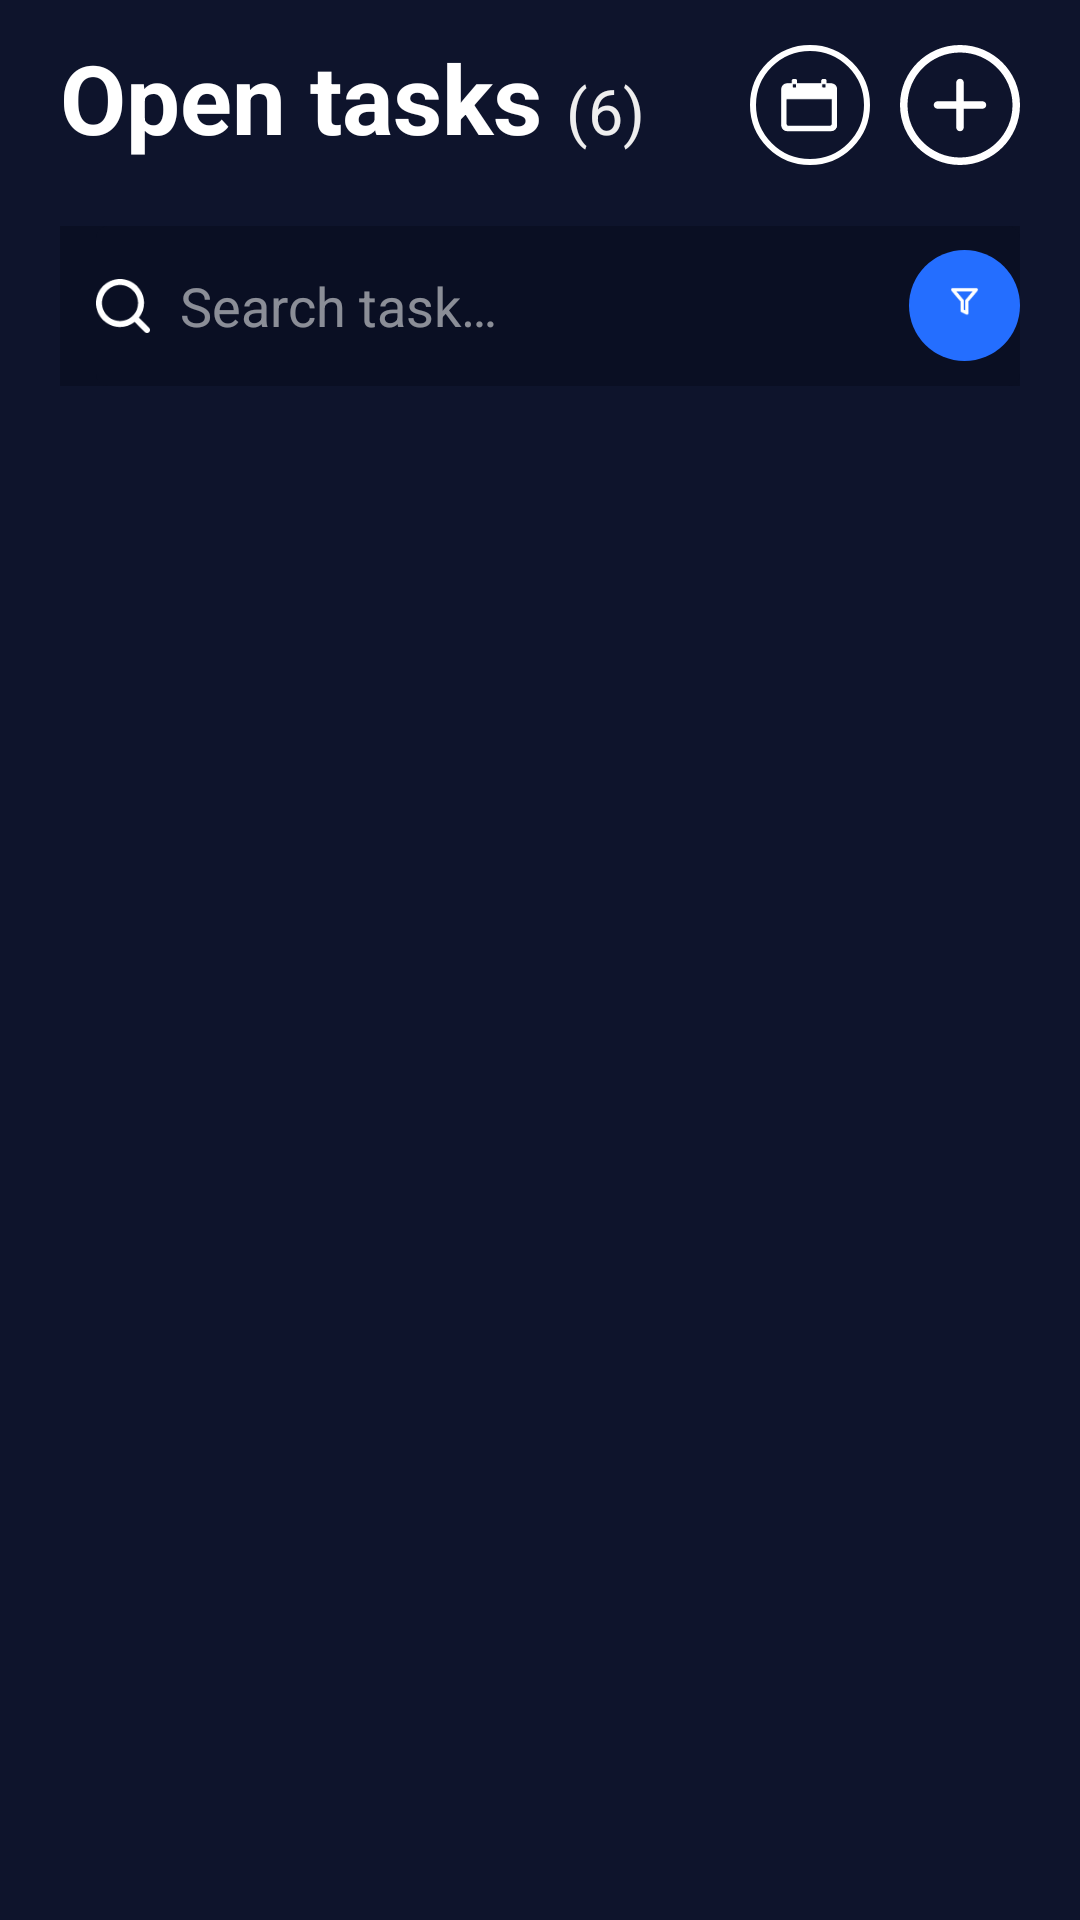

Icon click points for this 1080px×1920px phone screenshot, format (x,y):
filter: (964,305)
plus circlel: (960,105)
